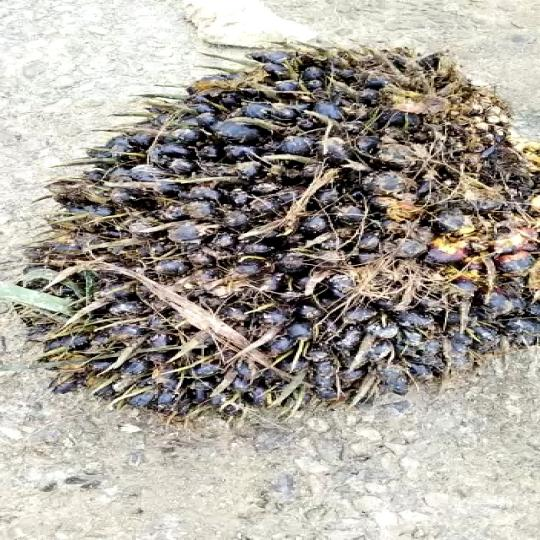mentah: (12, 51, 540, 431)
